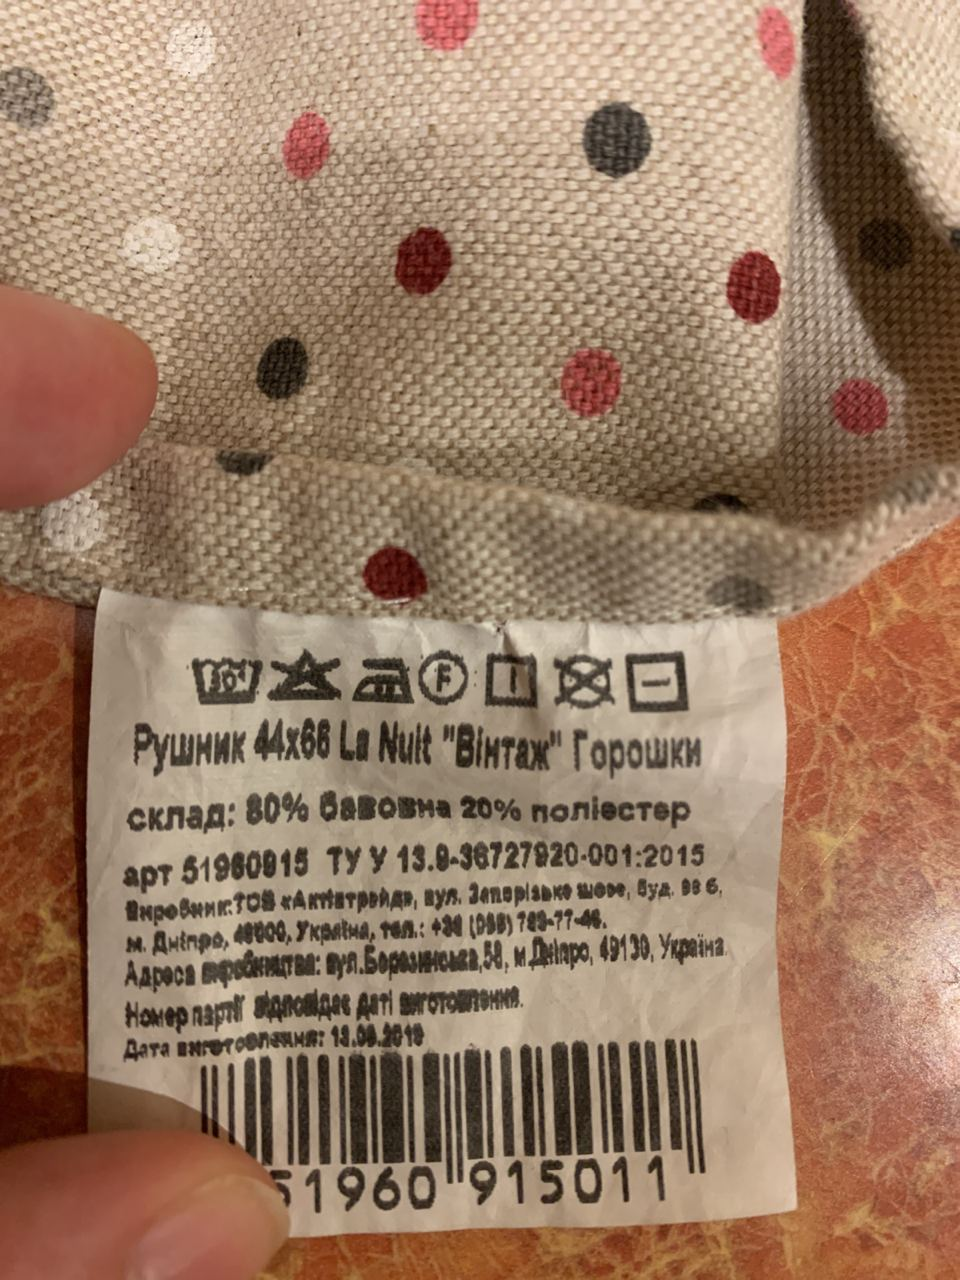do_not_bleach: (262, 644, 346, 709)
do_not_dry_clean: (547, 648, 621, 714)
dry_clean_hydrocarbon_solvent_only_hcs: (417, 648, 470, 708)
dry_flat: (620, 644, 694, 720)
ironing_at_med_temp: (351, 652, 414, 709)
line_dry: (478, 646, 541, 712)
wash_at_or_below_30: (185, 652, 272, 709)
